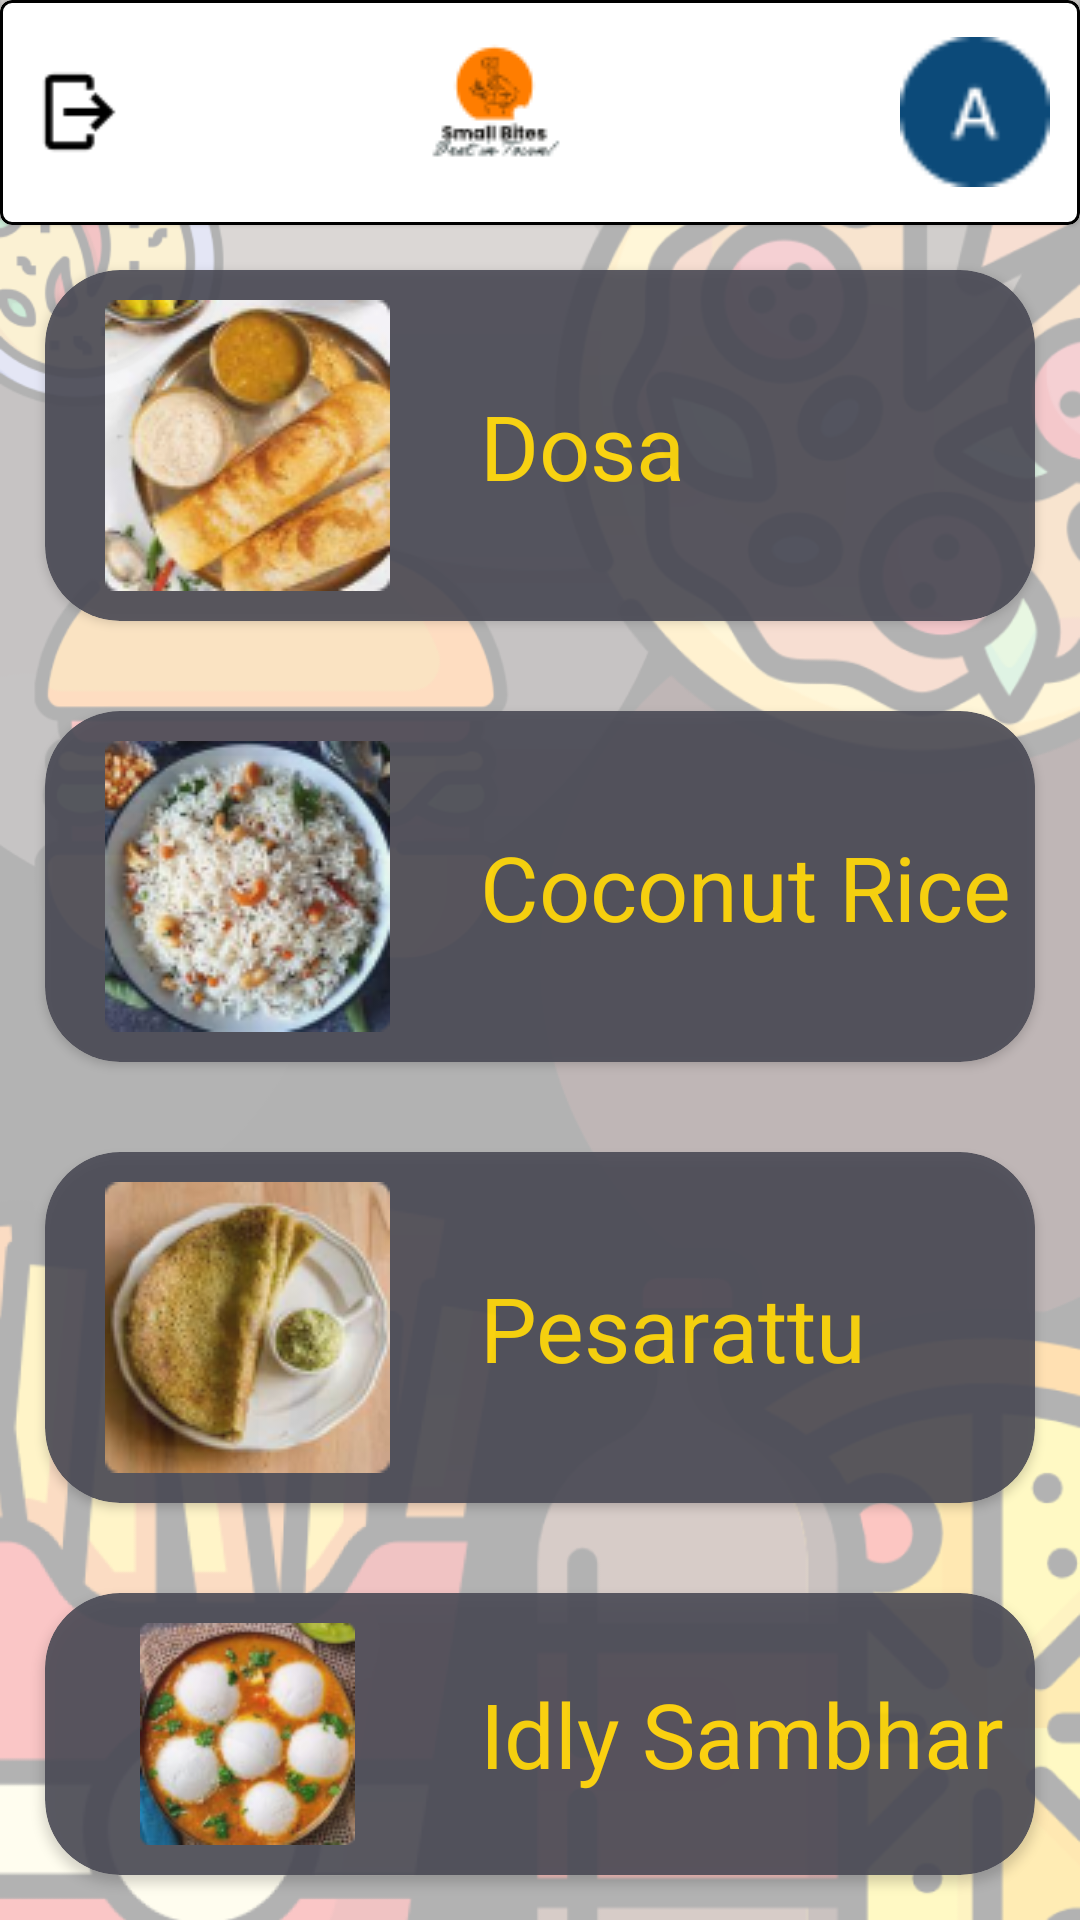

Icon bounding boxes for this 1080w x 1920h phone screenshot, format (x1, y1, x2, y2):
user: (900, 37, 1050, 187)
